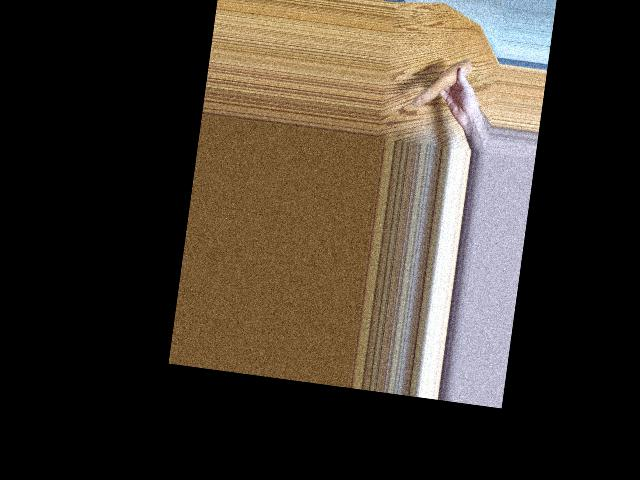sweet_potato: (413, 55, 473, 112)
